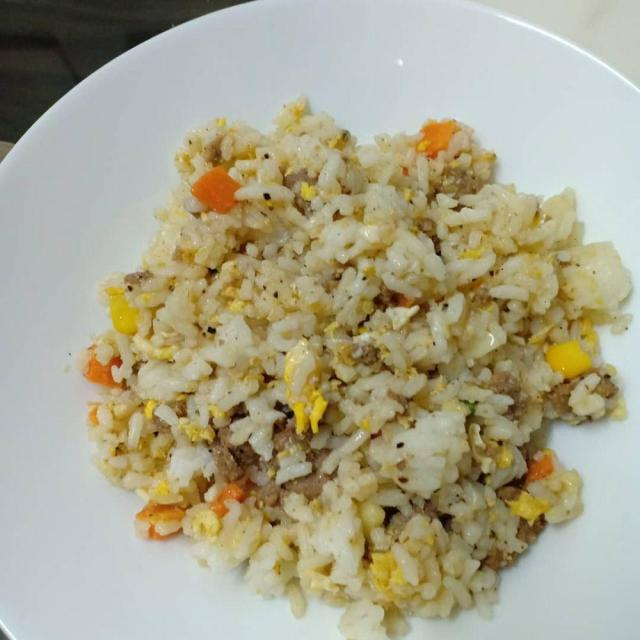Nasi Goreng: (79, 94, 633, 636)
